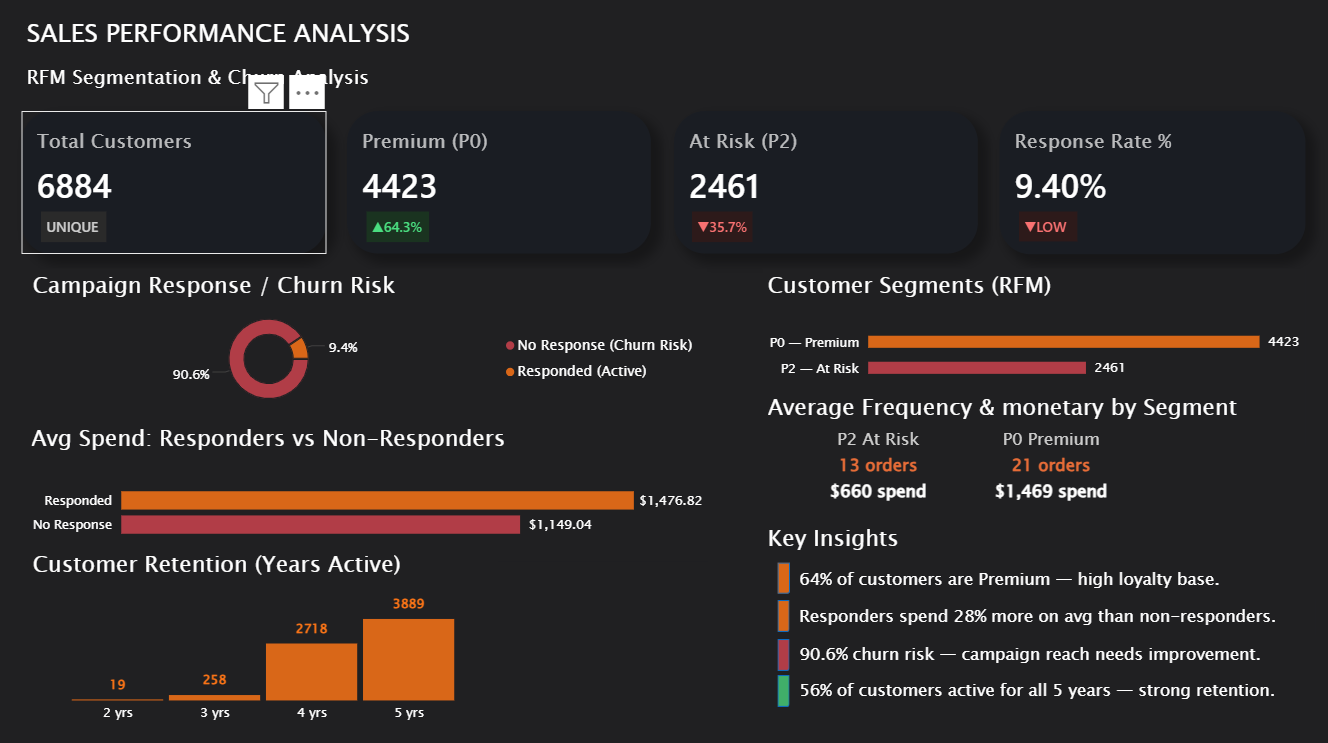

Layout of this report page (visuals, bound fields, positions):
{"tool":"powerbi","page":{"name":"Page 2","canvas":[1280,720],"ordinal":1},"visuals":[{"type":"textbox","box":[25,14.6,476.7,53.9],"z":0},{"type":"textbox","box":[24.8,59.8,476.7,62.7],"z":1000},{"type":"cardVisual","fields":{"Data":["customer_summary.Premium Customers"]},"box":[337,112.3,291,136.6],"z":2000},{"type":"cardVisual","fields":{"Data":["monthly_summary.Total Customers"]},"box":[24.8,112.3,292,137],"z":3000},{"type":"cardVisual","fields":{"Data":["customer_summary.At Risk Customers"]},"box":[649.6,112.3,291,136.6],"z":4000},{"type":"textbox","box":[43.7,208.5,62.7,29.2],"z":5000},{"type":"textbox","box":[355.7,208.5,59.8,29.2],"z":6000},{"type":"textbox","box":[667,208.5,58.3,29.2],"z":7000},{"type":"cardVisual","fields":{"Data":["customer_summary.Response Rate %"]},"box":[962.2,112.3,293,137],"z":8000},{"type":"textbox","box":[980.8,208.5,56.1,28.8],"z":9000},{"type":"barChart","title":"Customer Segments (RFM)","fields":{"Category":["RFM_Segments.Segment"],"Y":["Sum(RFM_Segments.Customers)"]},"box":[734.8,263.9,520.5,129.7],"z":10000},{"type":"textbox","box":[734.8,374.7,520.5,58.3],"z":11000},{"type":"textbox","box":[749.3,409.7,193,90.4],"z":12000},{"type":"textbox","box":[914.1,409.7,193.9,90.4],"z":13000},{"type":"donutChart","title":"Campaign Response / Churn Risk","fields":{"Category":["Churn_Data.Response"],"Y":["Sum(Churn_Data.Customers)"]},"box":[30.6,263.9,651.7,140],"z":14000},{"type":"clusteredBarChart","title":"Avg Spend: Responders vs Non-Responders","fields":{"Category":["Spend_Comparison.Response"],"Y":["Sum(Spend_Comparison.Avg Spend)"]},"box":[29.2,409.7,653.1,134.1],"z":15000},{"type":"columnChart","title":"Customer Retention (Years Active)","fields":{"Y":["Sum(Retention_Data.Customers)"],"Category":["Retention_Data.Years Active"]},"box":[30.6,530.7,451.9,179.3],"z":16000},{"type":"textbox","box":[734.8,500,207,43.7],"z":17000},{"type":"textbox","box":[765.4,543.8,489.8,35],"z":18000},{"type":"textbox","box":[765.4,580.2,500,35],"z":19000},{"type":"textbox","box":[765.4,615.2,510.3,35],"z":20000},{"type":"textbox","box":[765.4,650.2,514.6,64.1],"z":21000},{"type":"shape","box":[749.3,545,12,30],"z":22000},{"type":"shape","box":[749.3,581,11.7,30.6],"z":23000},{"type":"shape","box":[749,618,11.7,30.6],"z":24000},{"type":"shape","box":[749,653,11.7,30.6],"z":25000}]}

Visuals, with their boxes in screenshot pixels (x1, y1, x2, y2), scaled from the page's 1280x720 canvas onto the 1328x743 screenshot:
textbox: crop(26, 15, 521, 71)
textbox: crop(26, 62, 520, 126)
cardVisual - customer_summary.Premium Customers: crop(350, 116, 652, 257)
cardVisual - monthly_summary.Total Customers: crop(26, 116, 329, 257)
cardVisual - customer_summary.At Risk Customers: crop(674, 116, 976, 257)
textbox: crop(45, 215, 110, 245)
textbox: crop(369, 215, 431, 245)
textbox: crop(692, 215, 752, 245)
cardVisual - customer_summary.Response Rate %: crop(998, 116, 1302, 257)
textbox: crop(1018, 215, 1076, 245)
"Customer Segments (RFM)" barChart: crop(762, 272, 1302, 406)
textbox: crop(762, 387, 1302, 447)
textbox: crop(777, 423, 978, 516)
textbox: crop(948, 423, 1150, 516)
"Campaign Response / Churn Risk" donutChart: crop(32, 272, 708, 417)
"Avg Spend: Responders vs Non-Responders" clusteredBarChart: crop(30, 423, 708, 561)
"Customer Retention (Years Active)" columnChart: crop(32, 548, 501, 733)
textbox: crop(762, 516, 977, 561)
textbox: crop(794, 561, 1302, 597)
textbox: crop(794, 599, 1313, 635)
textbox: crop(794, 635, 1324, 671)
textbox: crop(794, 671, 1327, 737)
shape: crop(777, 562, 790, 593)
shape: crop(777, 600, 790, 631)
shape: crop(777, 638, 789, 669)
shape: crop(777, 674, 789, 705)
